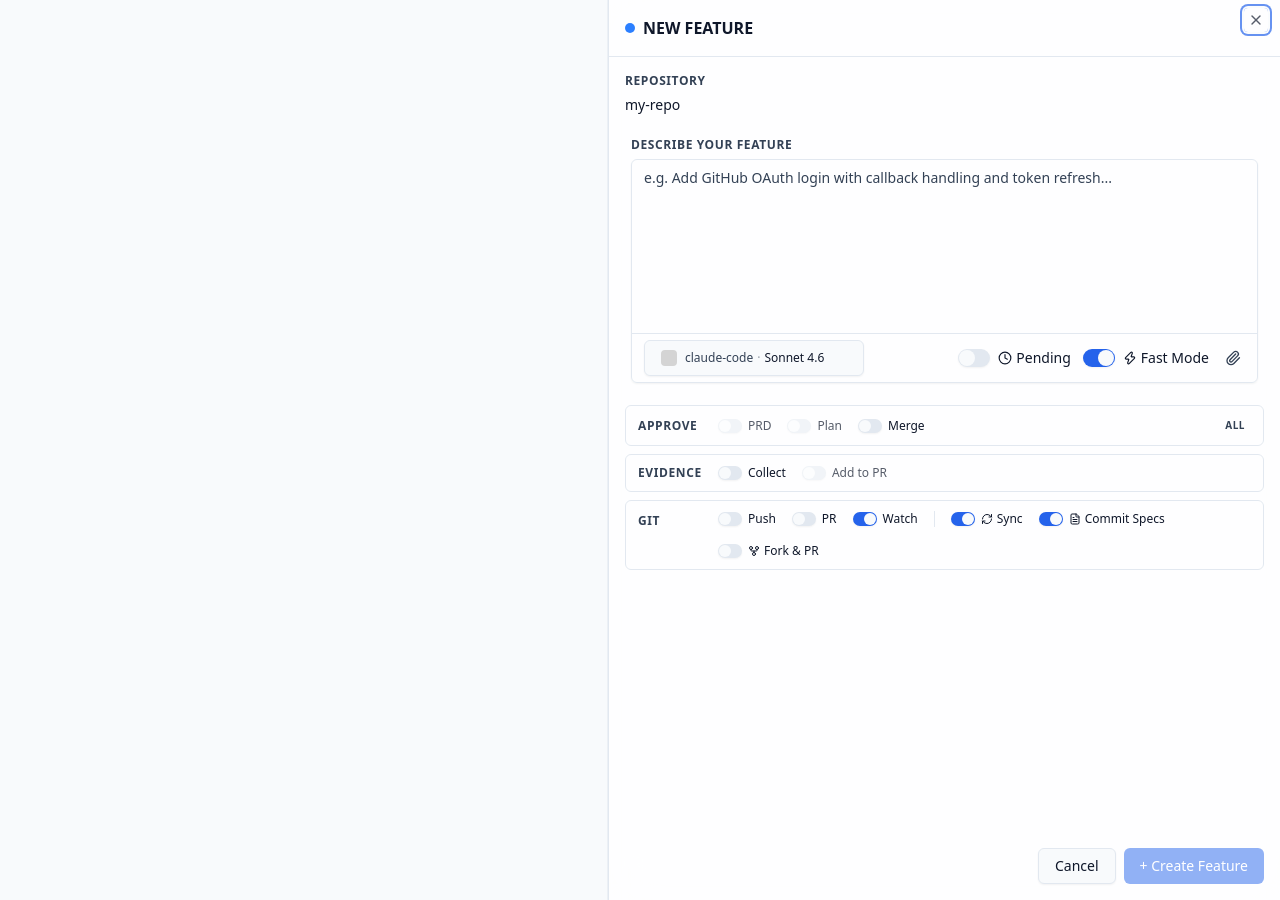
FeatureCreateDrawer › validation › enables submit button when description has content
In the text box with placeholder "e.g. Add GitHub OAuth login with callback handling and token refresh...": (944, 246) [632,160,1257,333], type "Add OAuth login"
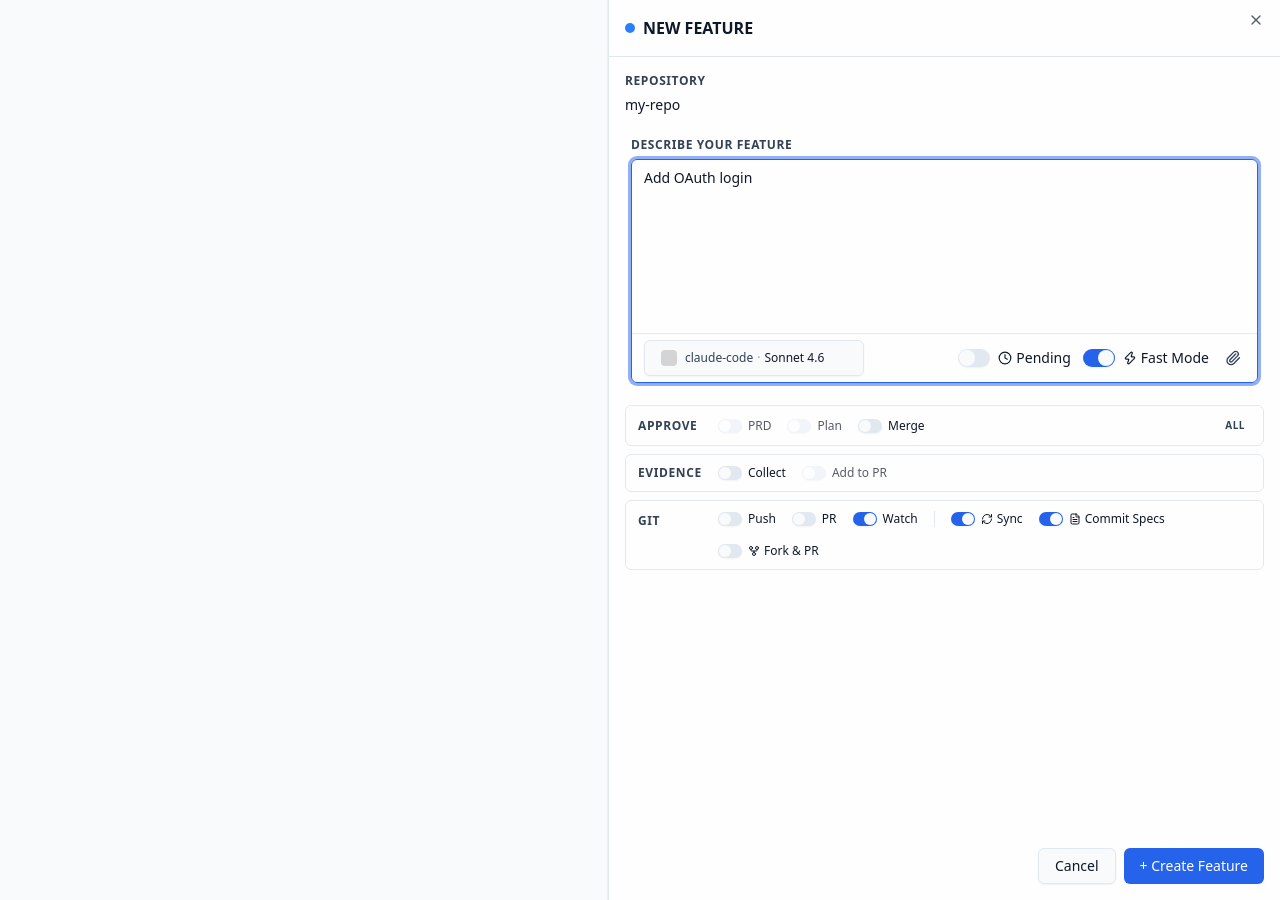
Result: the button "+ Create Feature" is enabled at [1124,848,1264,884]
